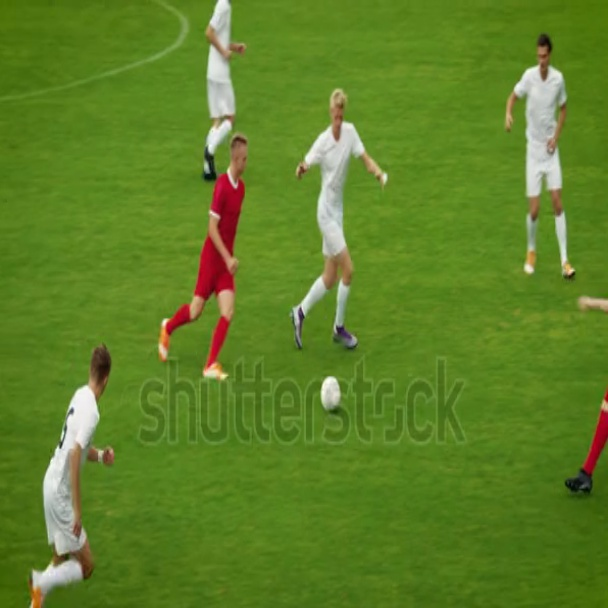ball: (315, 371, 346, 419)
